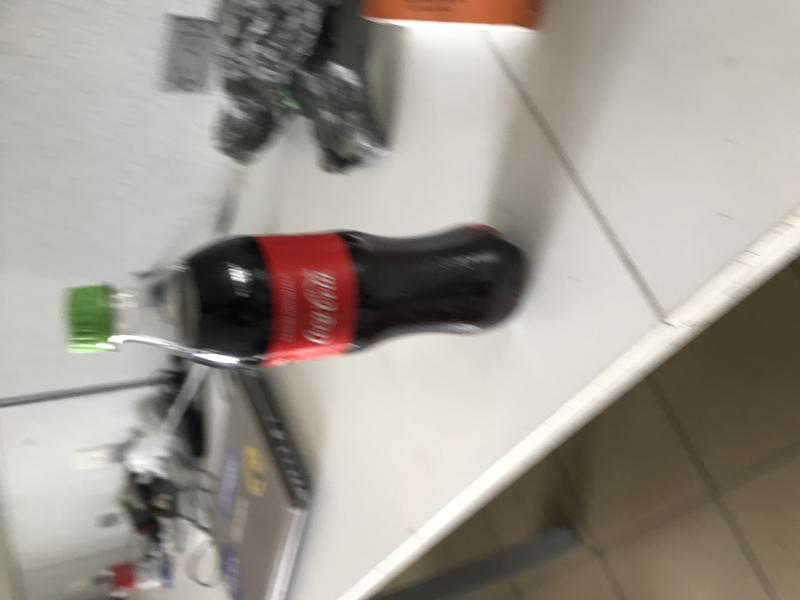coca_cola: (63, 224, 531, 372)
